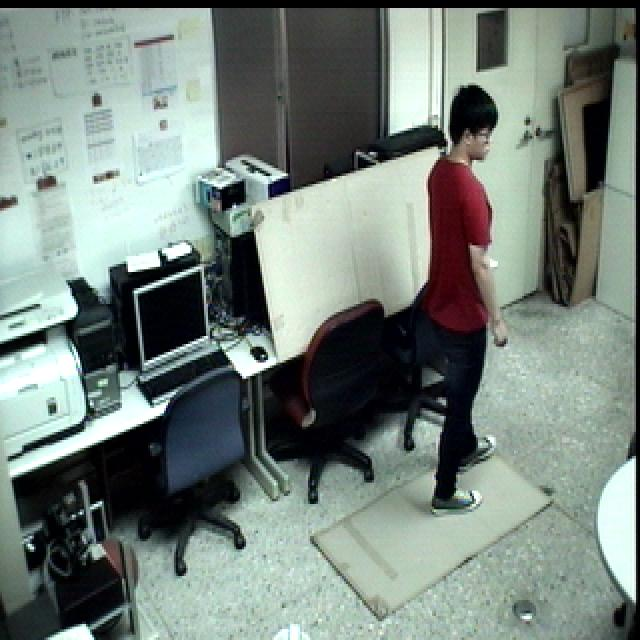stand: (415, 73, 523, 523)
